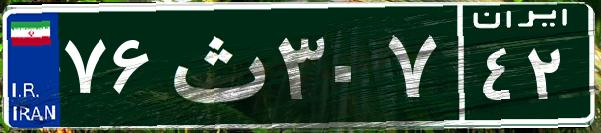0: (330, 28, 385, 110)
2: (525, 38, 570, 115)
3: (273, 28, 330, 110)
4: (475, 38, 525, 113)
6: (110, 28, 158, 105)
7: (385, 28, 445, 110), (57, 26, 110, 107)
ث: (158, 15, 273, 115)
